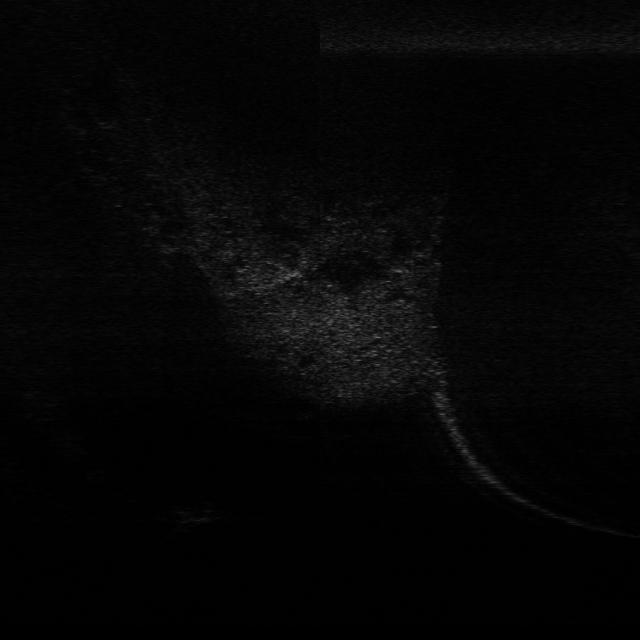cube: (170, 500, 222, 525)
